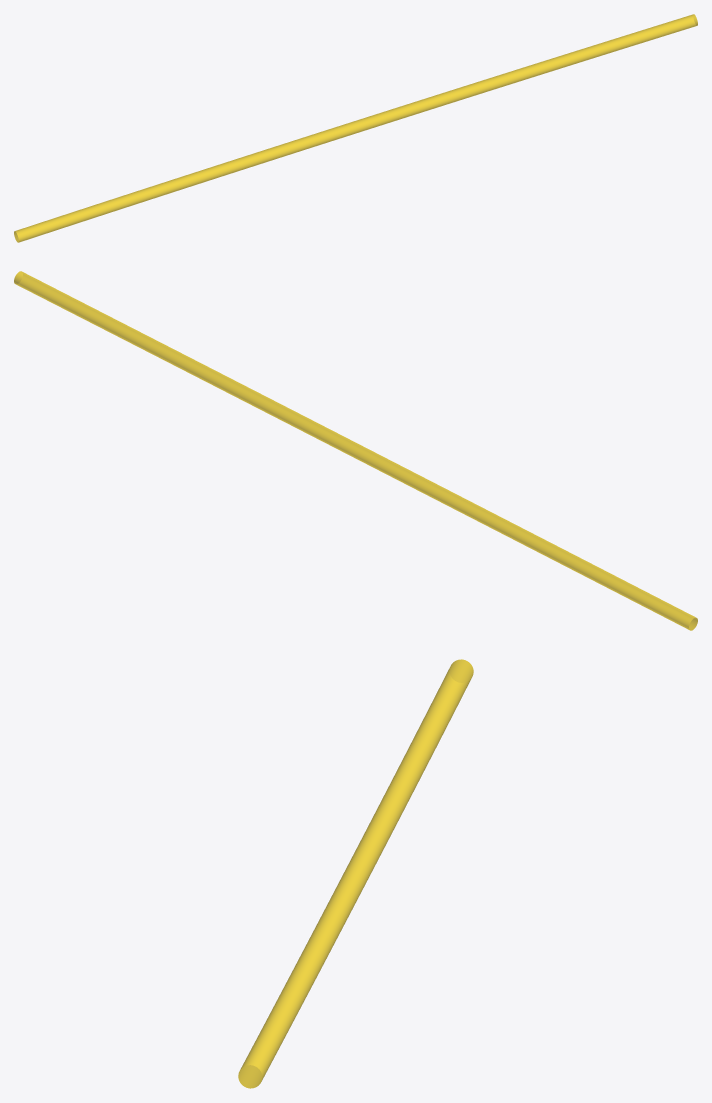
Rendered from Event_75125125_track_112.fbx.
3 views of the same model, one above another, from view 1: azimuth 30°, elevation 25°; view 2: azimuth 150°, elevation 25°; view 3: azimuth 270°, elevation 25° (orthographic). The views are drawn at different scales.
Visible parts, largest first — view 1: Model; view 2: Model; view 3: Model.
Boxes of the visible parts, x1=… form: Model: x1=14, y1=14, x2=697, y2=242; Model: x1=14, y1=271, x2=697, y2=630; Model: x1=238, y1=659, x2=473, y2=1088.
Bounding box in the file's own units: 2.37 × 0.4105 × 0.3848.
